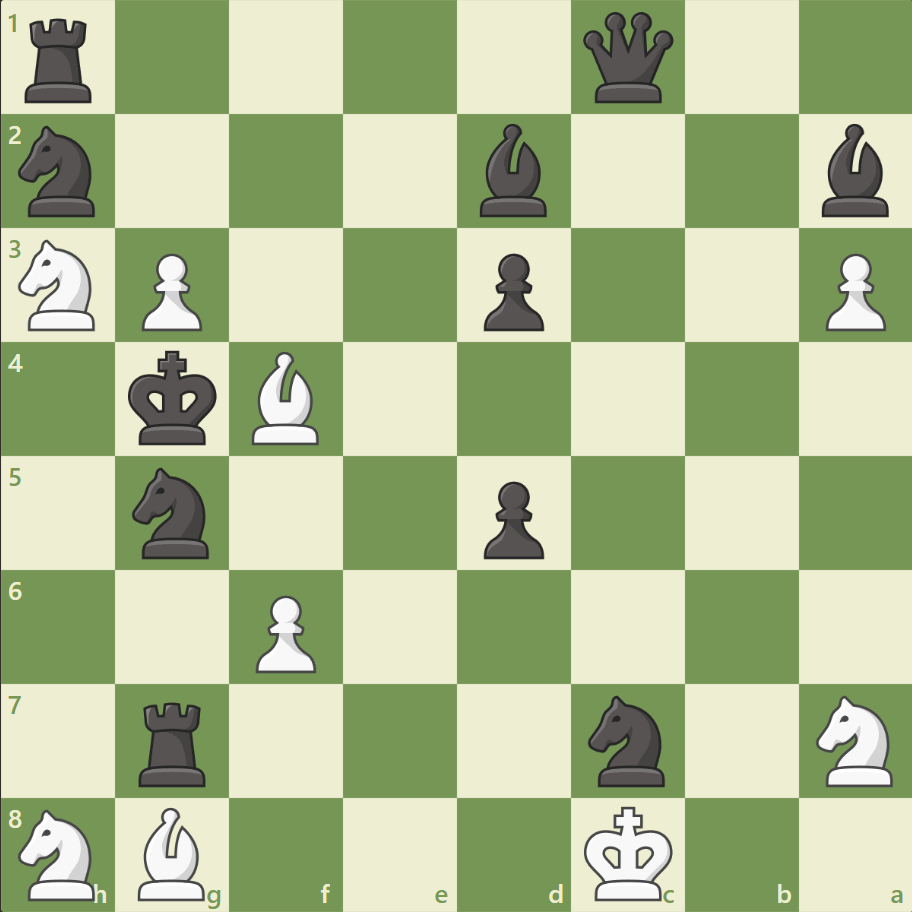B: (131, 801, 215, 904), (244, 347, 328, 449)
K: (579, 798, 679, 906)
N: (806, 688, 903, 791), (11, 234, 108, 337), (11, 802, 108, 904)
P: (247, 586, 322, 677), (133, 246, 208, 337), (815, 246, 889, 337)
b: (812, 120, 896, 222), (471, 120, 555, 222)
k: (124, 344, 224, 452)
n: (124, 461, 222, 564), (579, 688, 676, 791), (11, 121, 108, 223)
p: (474, 473, 549, 564), (474, 246, 549, 337)
q: (578, 9, 677, 108)
r: (19, 12, 102, 109), (133, 693, 215, 790)
